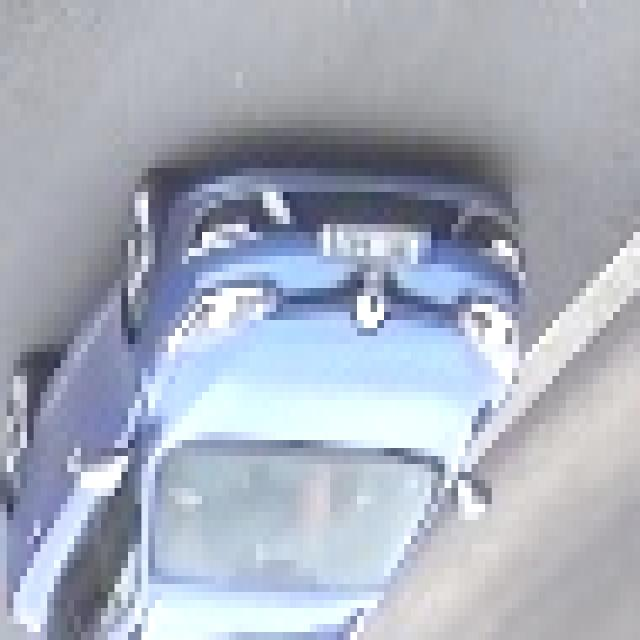blue: (9, 160, 524, 640)
